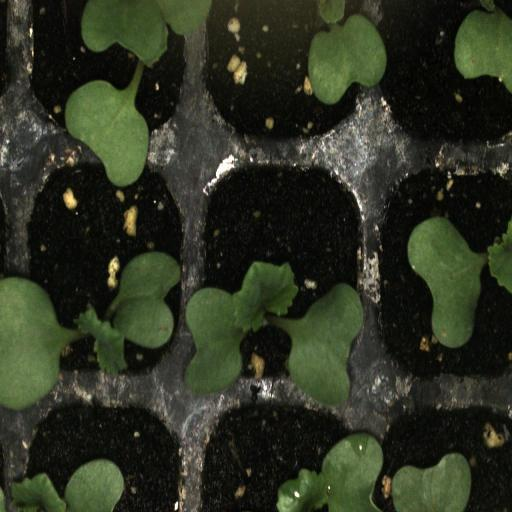seedling: (193, 144, 373, 394), (15, 146, 188, 392), (375, 146, 512, 392), (18, 0, 191, 144)
